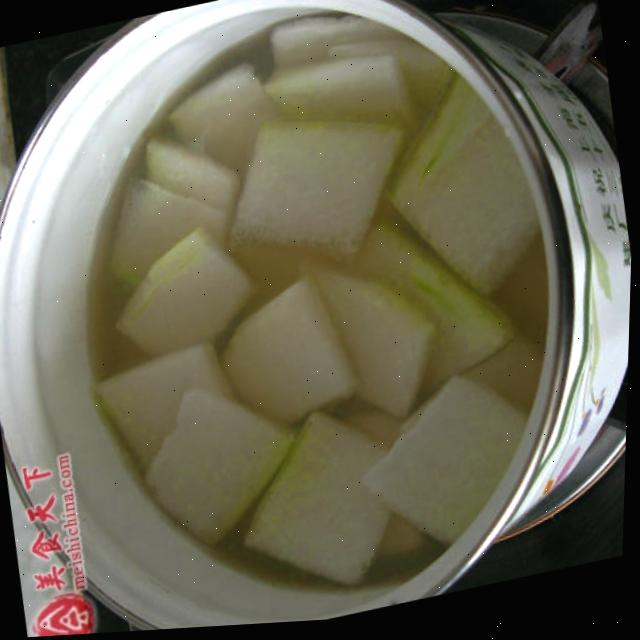汤锅炖物: (25, 0, 599, 638)
